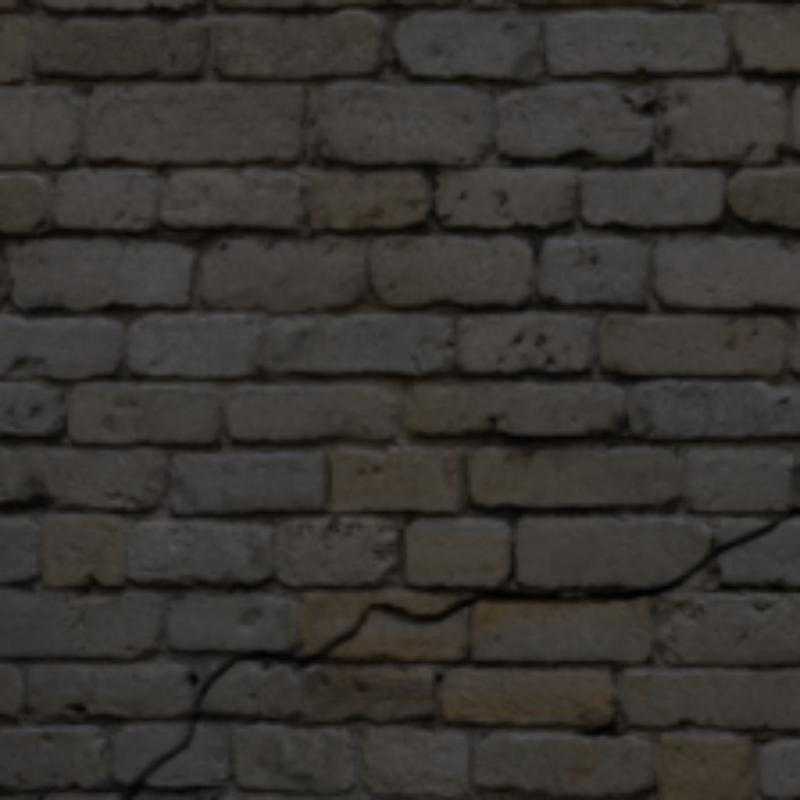crack: (121, 507, 796, 796)
